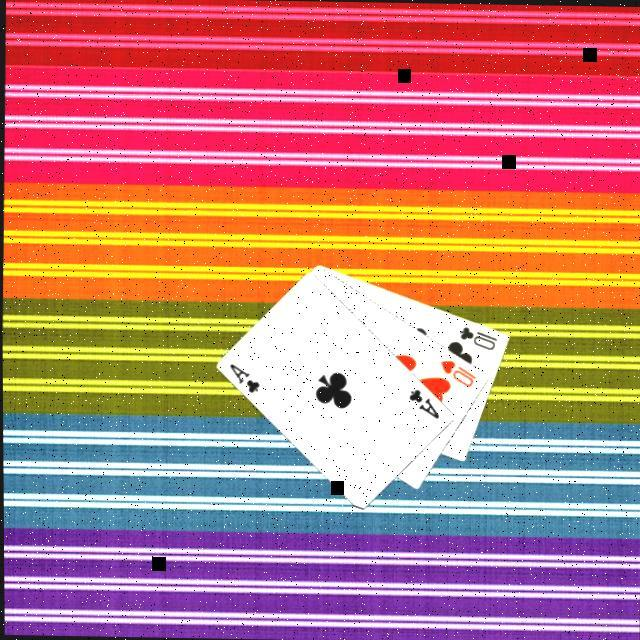10C: (456, 320, 502, 351)
10H: (438, 354, 480, 388)
AC: (406, 384, 444, 421), (226, 357, 264, 394)
